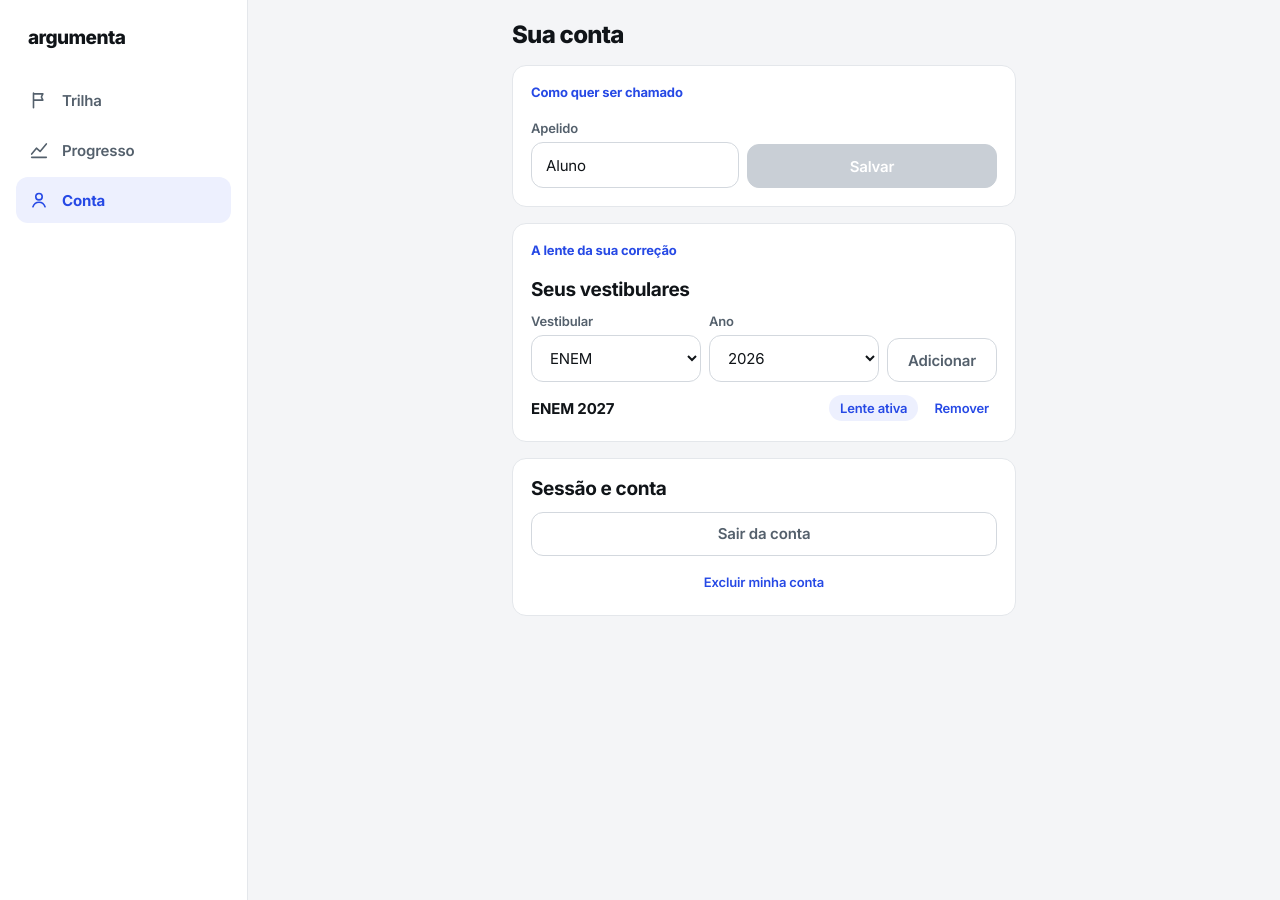
Test: remover vestibulares › confirmado o aviso, o último vestibular sai
Click the button with aria-label "remover enem 2027". click: point(962, 408)
box: x1=926 y1=394 x2=997 y2=423
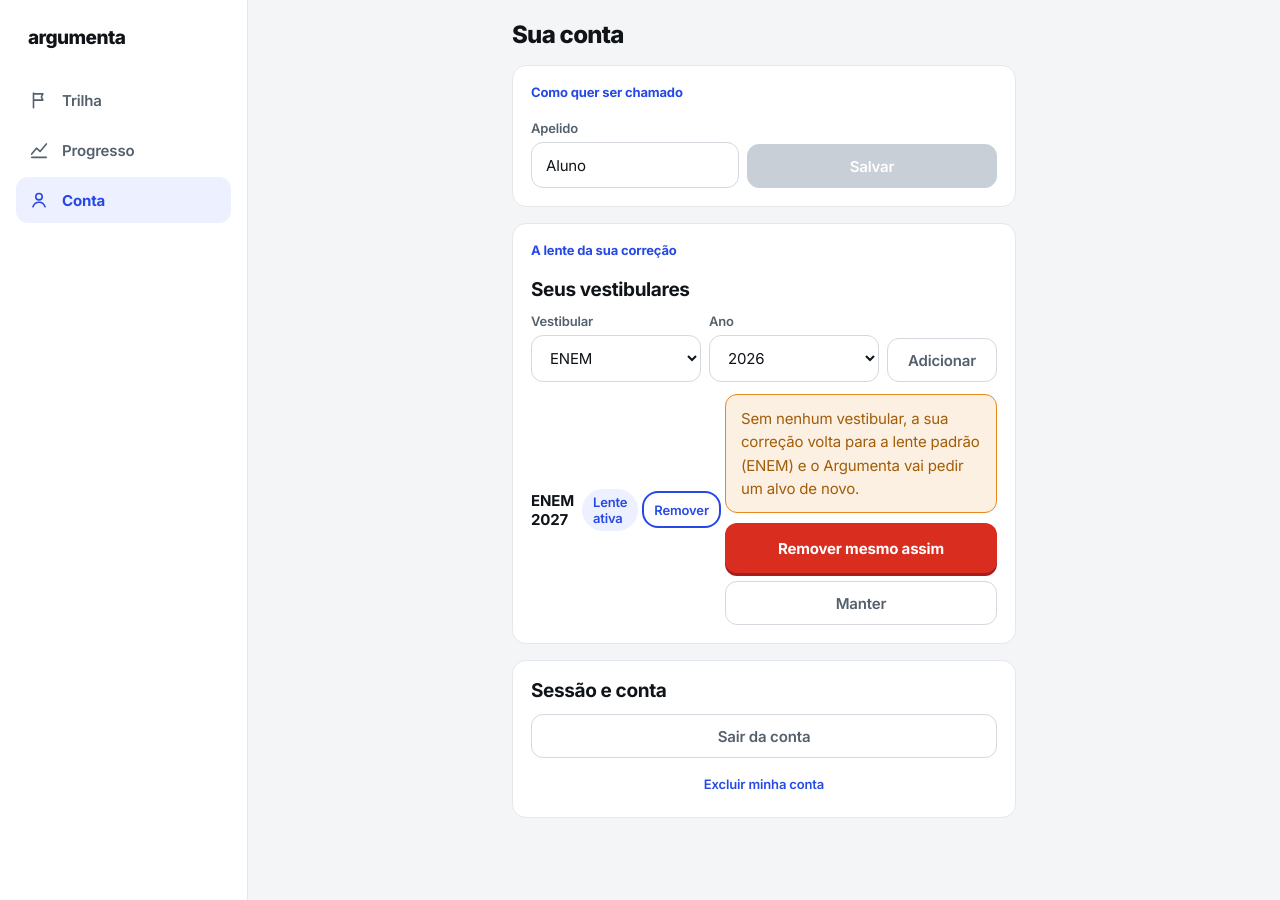
Click the button "Remover mesmo assim". click: point(861, 548)
box: x1=725 y1=523 x2=997 y2=573
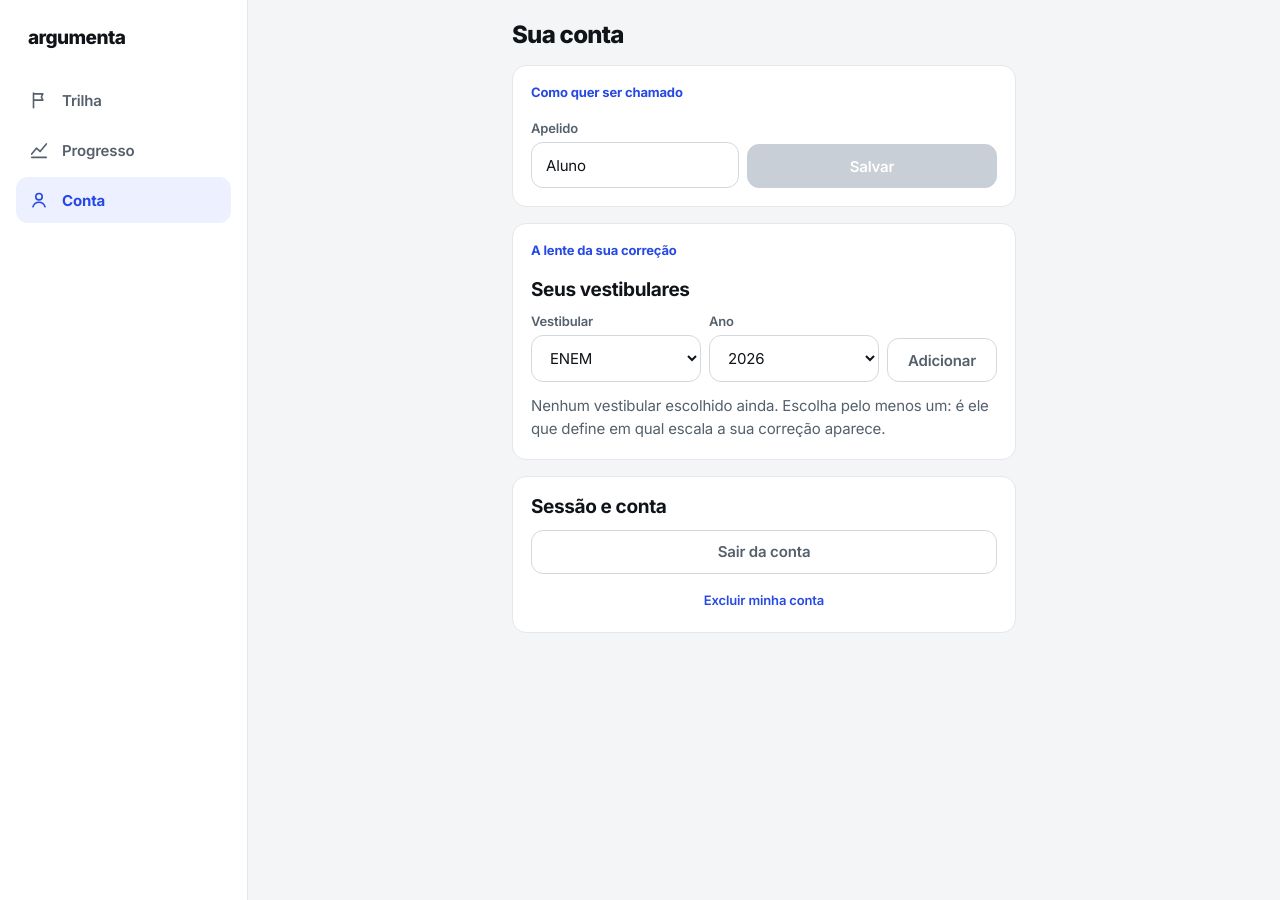
Now the text "Nenhum vestibular escolhido ainda" is shown, box x1=531 y1=396 x2=989 y2=438
